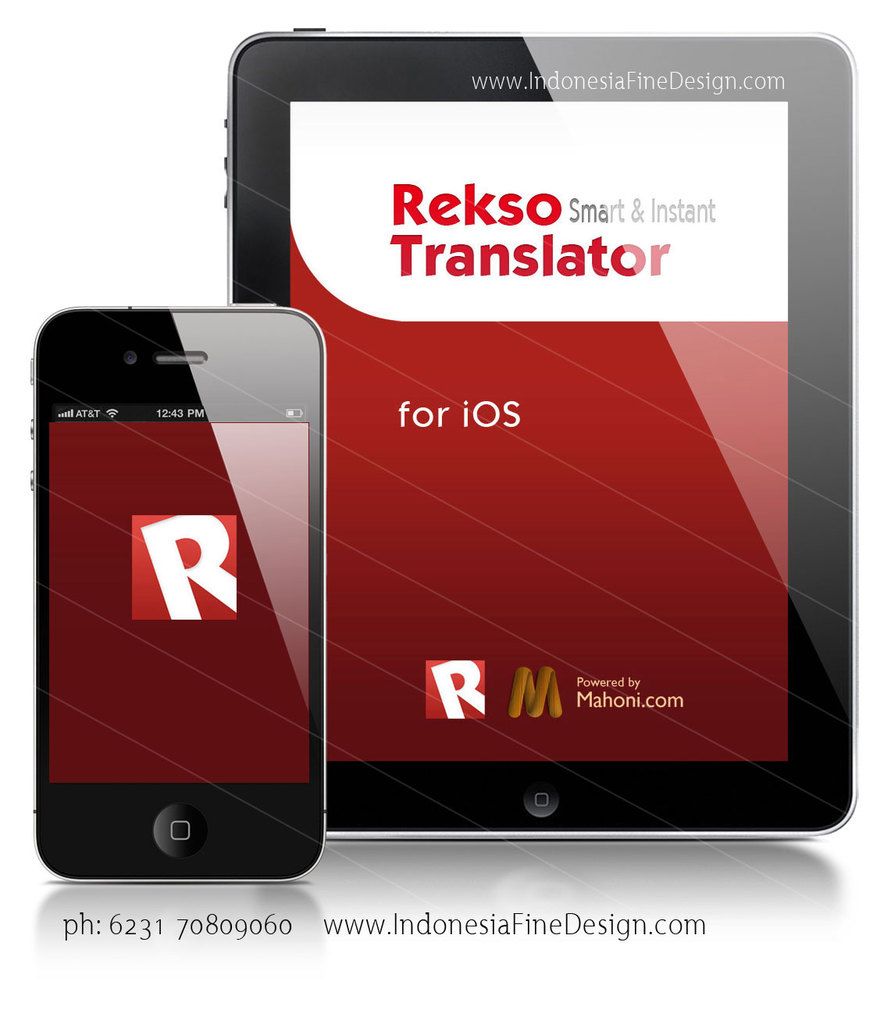Mobile-phone: (38, 300, 330, 882)
